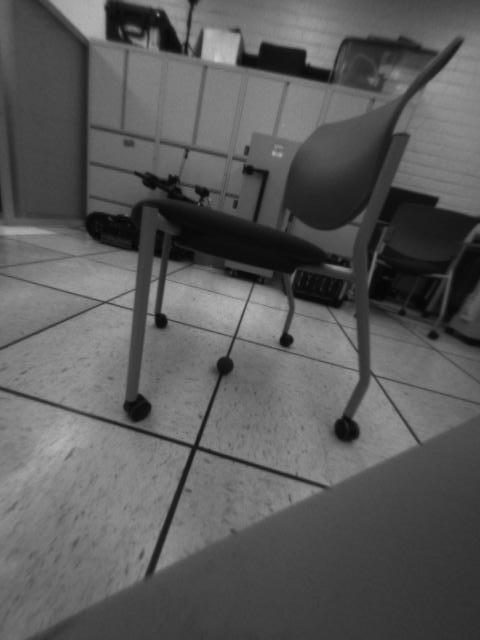dogtoy: (211, 350, 243, 382)
